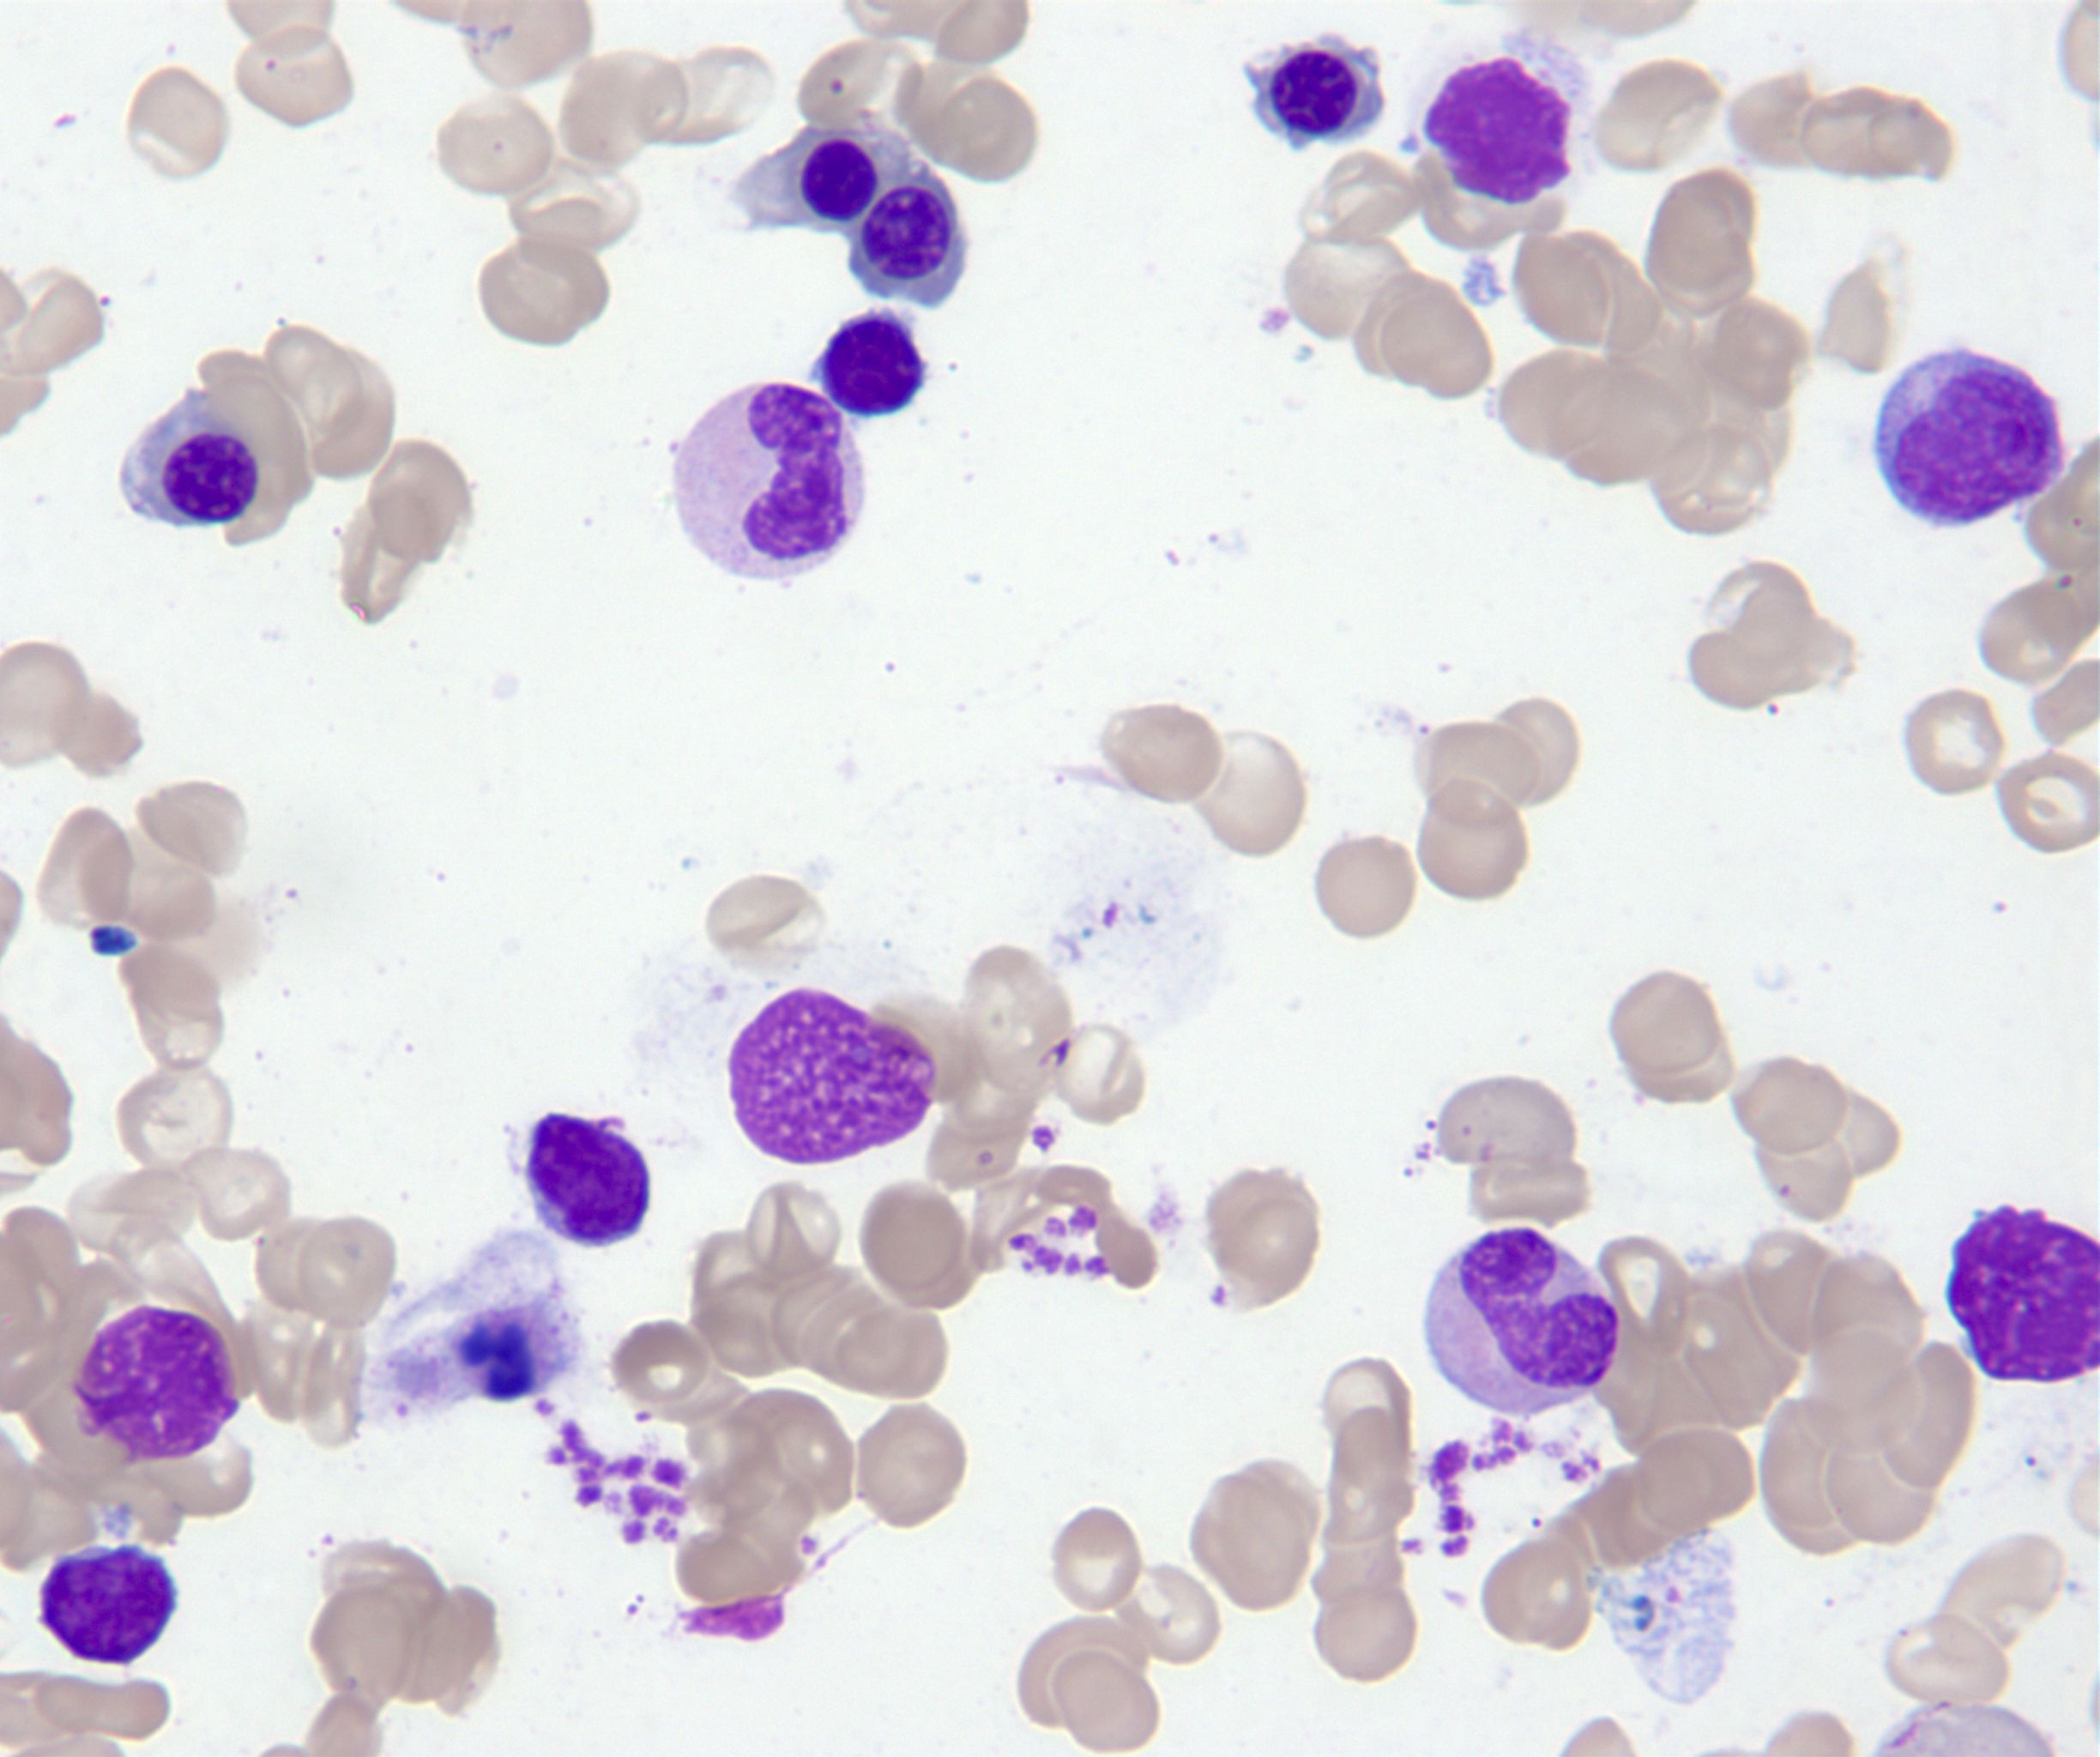24: (727, 124, 910, 236), (119, 386, 258, 527), (841, 157, 966, 311), (1244, 31, 1383, 150)
32: (38, 1546, 176, 1665), (527, 1115, 649, 1248), (804, 305, 924, 417)
42: (1875, 351, 2065, 530)
5: (1425, 1227, 1619, 1417), (675, 384, 863, 578)
x: (729, 988, 937, 1166), (1406, 33, 1594, 206), (1948, 1204, 2100, 1382), (70, 1307, 237, 1467)
